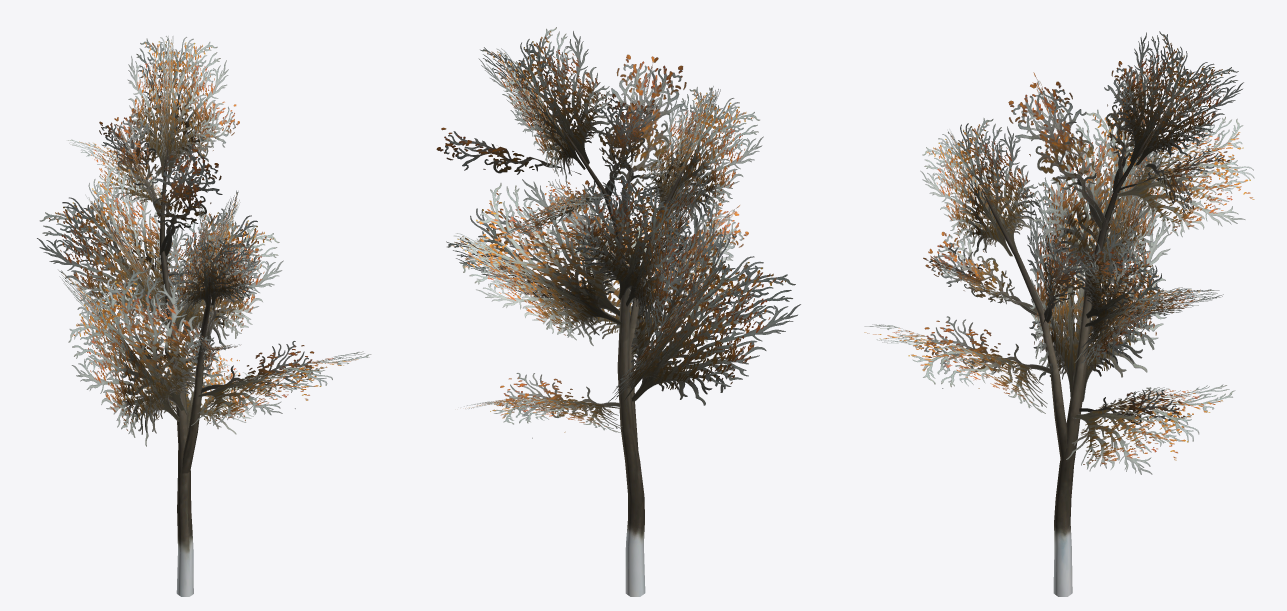
The model's file is dragonblight_tree03.obj.
The picture shows the model from 3 angles, left to right: view 1: azimuth 30°, elevation 25°; view 2: azimuth 150°, elevation 25°; view 3: azimuth 270°, elevation 25°; orthographic projection. The views are drawn at different scales.
Parts seen in each view (by area): view 1: Geoset1, Geoset0; view 2: Geoset1, Geoset0; view 3: Geoset1, Geoset0.
Boxes of the visible parts, x1,y1,x2,y2 form: Geoset1: (37,36,371,446); Geoset0: (160,128,210,596); Geoset1: (436,27,800,438); Geoset0: (559,124,690,596); Geoset1: (864,31,1254,474); Geoset0: (980,129,1152,596).
Bounding box in the file's own units: 4.85 × 7.88 × 5.04.
2 materials, 2 textured.
